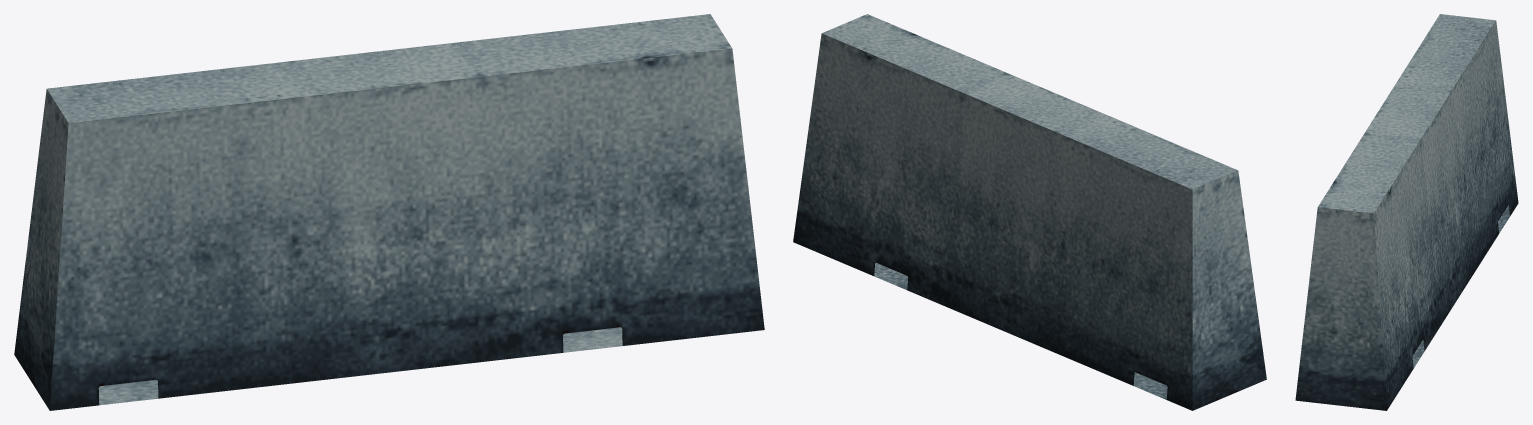
File: SM_EC_Traffic_Block_0.fbx
3 renders of one model, left to right at view 1: azimuth 30°, elevation 25°; view 2: azimuth 150°, elevation 25°; view 3: azimuth 270°, elevation 25°, orthographic. The views are drawn at different scales.
Visible parts, largest first — view 1: SM_EC_Traffic_Block_0; view 2: SM_EC_Traffic_Block_0; view 3: SM_EC_Traffic_Block_0.
Boxes of the visible parts, left/top/right/bottom form: SM_EC_Traffic_Block_0: left=14, top=14, right=764, bottom=410; SM_EC_Traffic_Block_0: left=793, top=14, right=1266, bottom=410; SM_EC_Traffic_Block_0: left=1295, top=14, right=1518, bottom=410.
Bounding box in the file's own units: 3.64 × 1.57 × 1.46.
